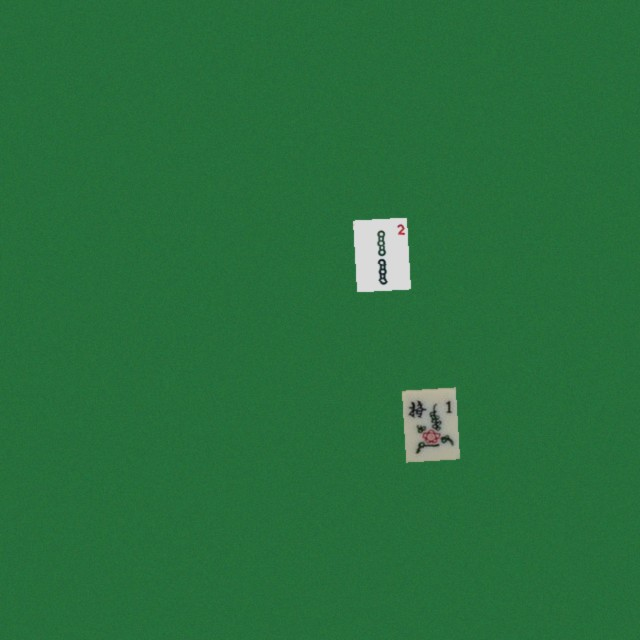tile: (352, 217, 406, 289), (401, 387, 455, 459)
